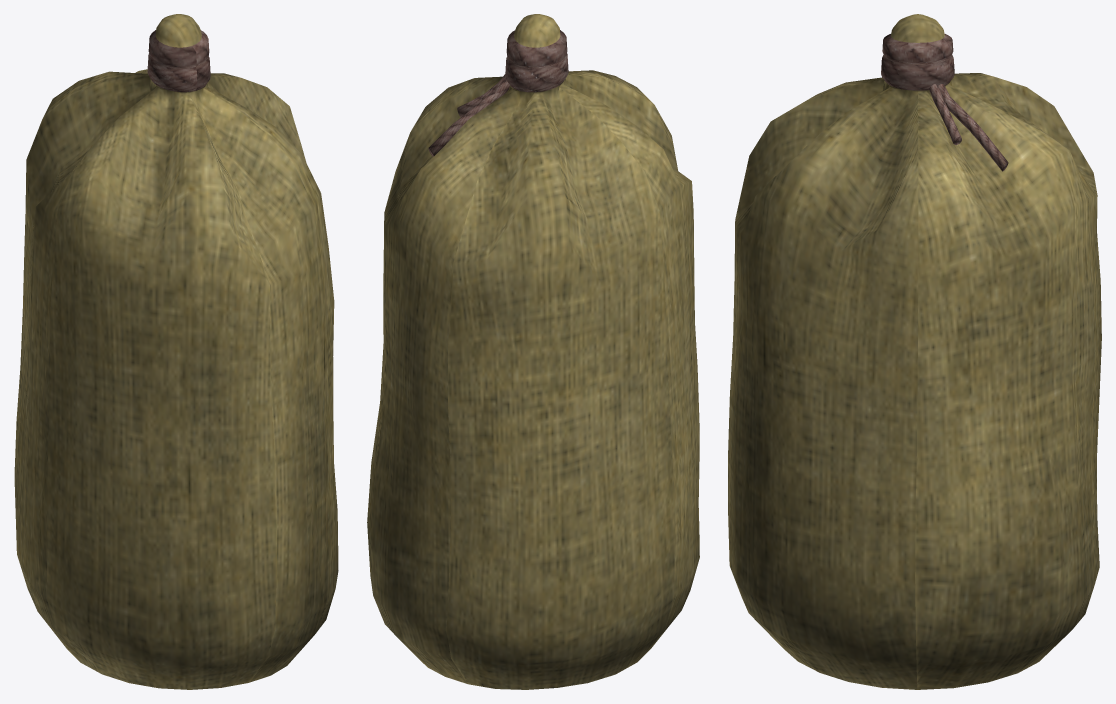
File: body.fbx
3 renders of one model, left to right at view 1: azimuth 30°, elevation 25°; view 2: azimuth 150°, elevation 25°; view 3: azimuth 270°, elevation 25°, orthographic.
Parts seen in each view (by area): view 1: body; view 2: body; view 3: body.
Boxes of the visible parts, <box> form: body: <box>14,14,338,689</box>; body: <box>367,14,699,689</box>; body: <box>728,14,1101,689</box>.
Bounding box in the file's own units: 0.3513 × 0.7995 × 0.4119.
